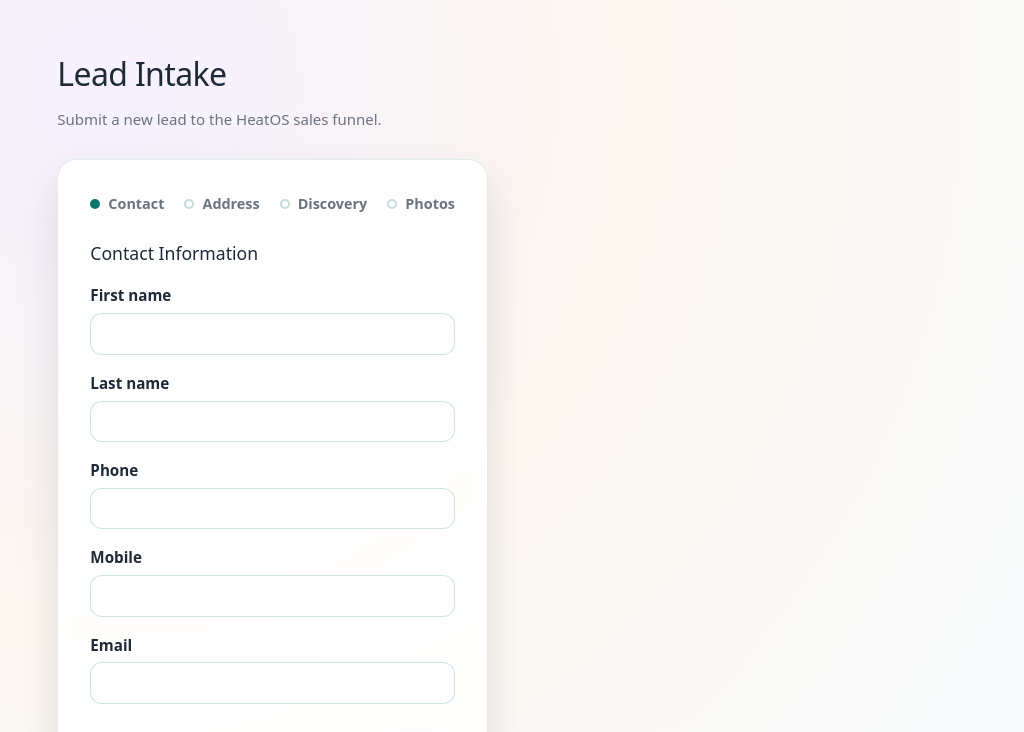
Test: LeadFormView › blocks invalid email format on the first step
Type "Ada" into the field with id "firstName" at (273,334), box [90,313,455,355]
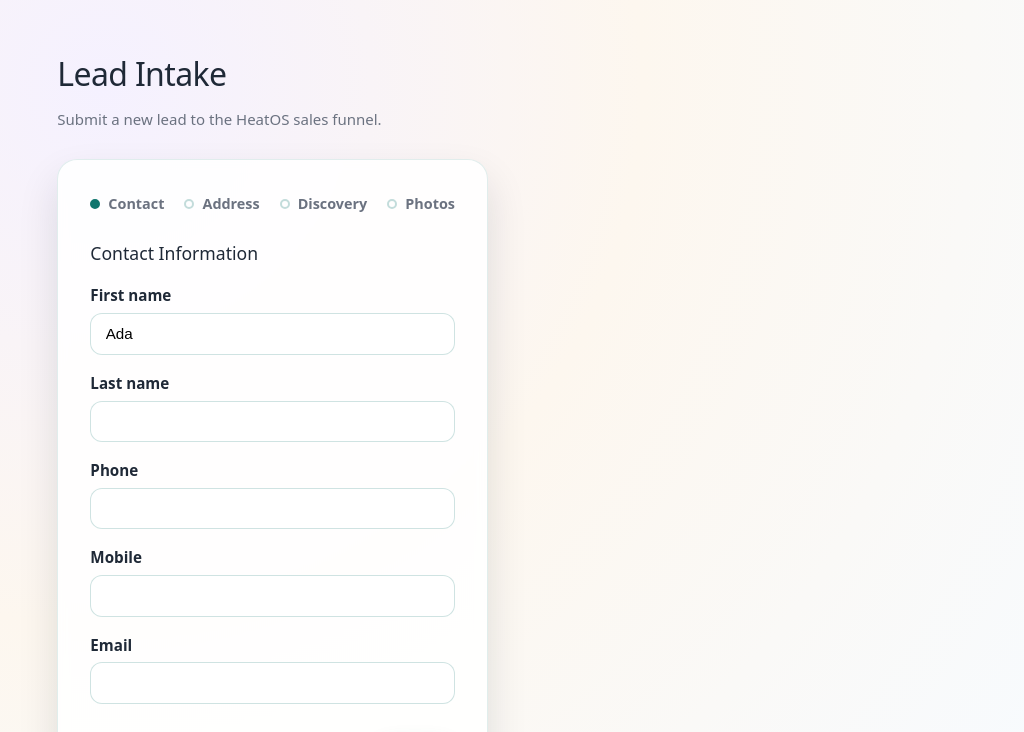
Type "Lovelace" into the field with id "lastName" at (273,421), box [90,401,455,442]
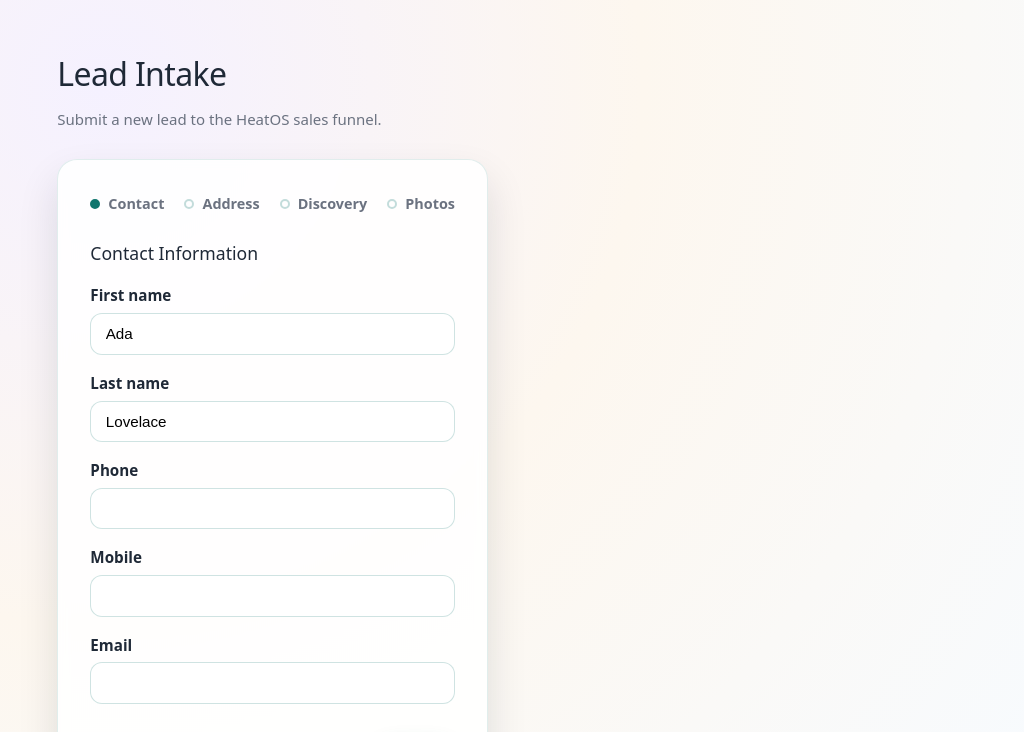
Type "+49 123 456" into the field labelled "Phone" at (273,508), box [90,488,455,529]
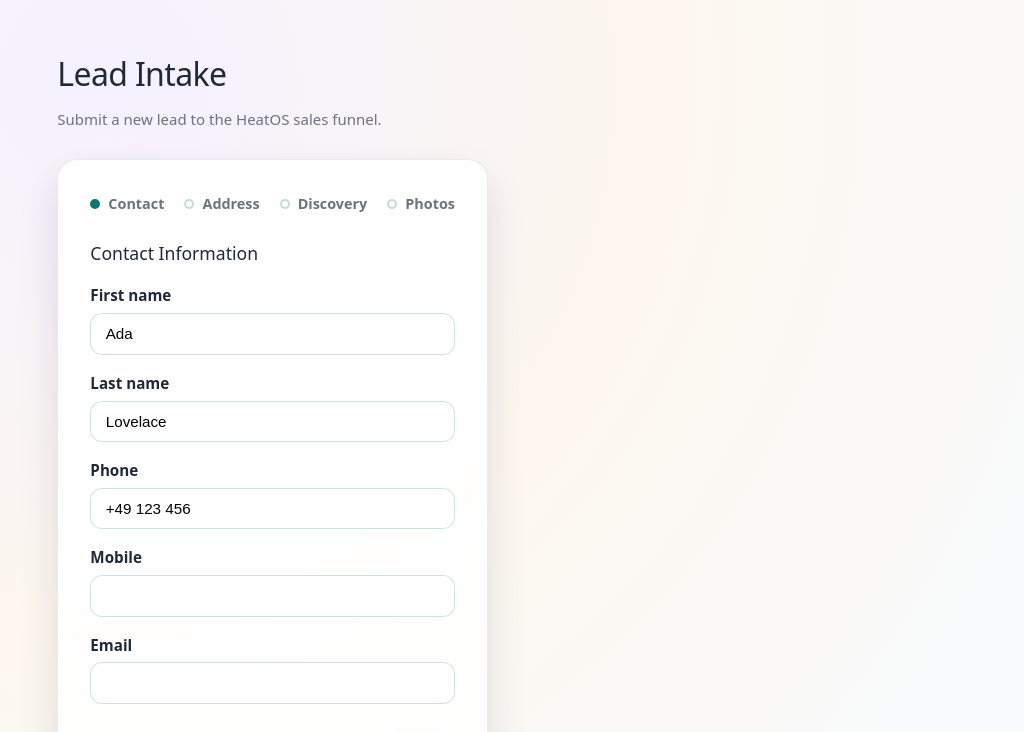
Type "invalid-email" into the field with id "email" at (273,683), box [90,662,455,704]
(page scrolled)
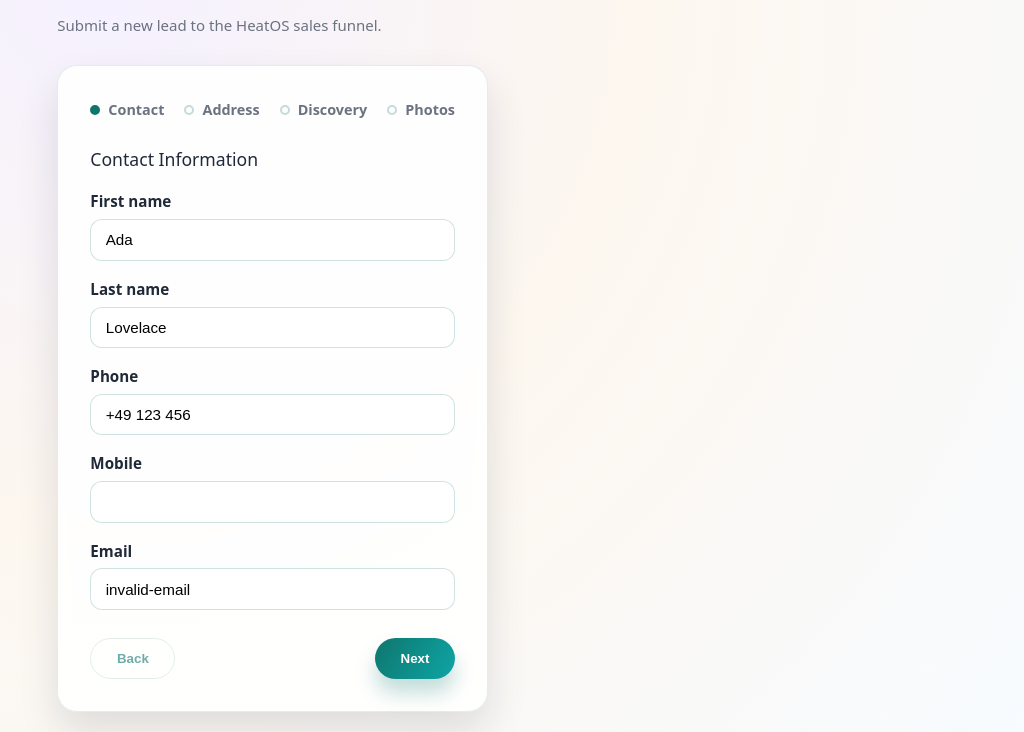
Submit the form, box [57,65,488,712]
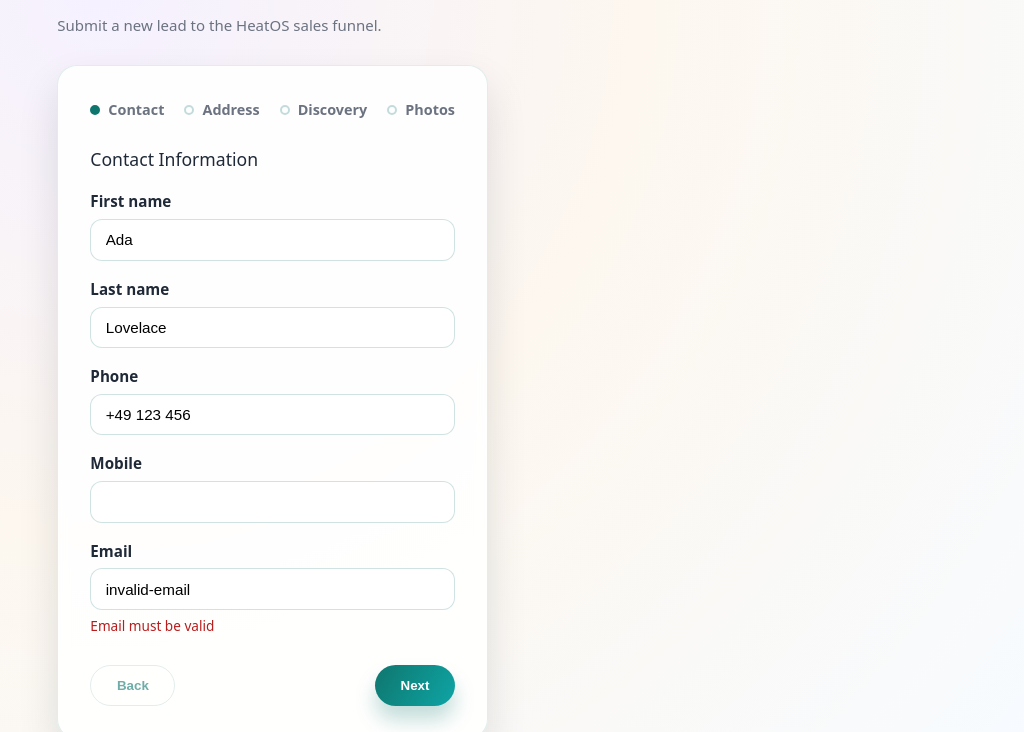
Expected: the text "Email must be valid" is shown, [90,616,214,635]
